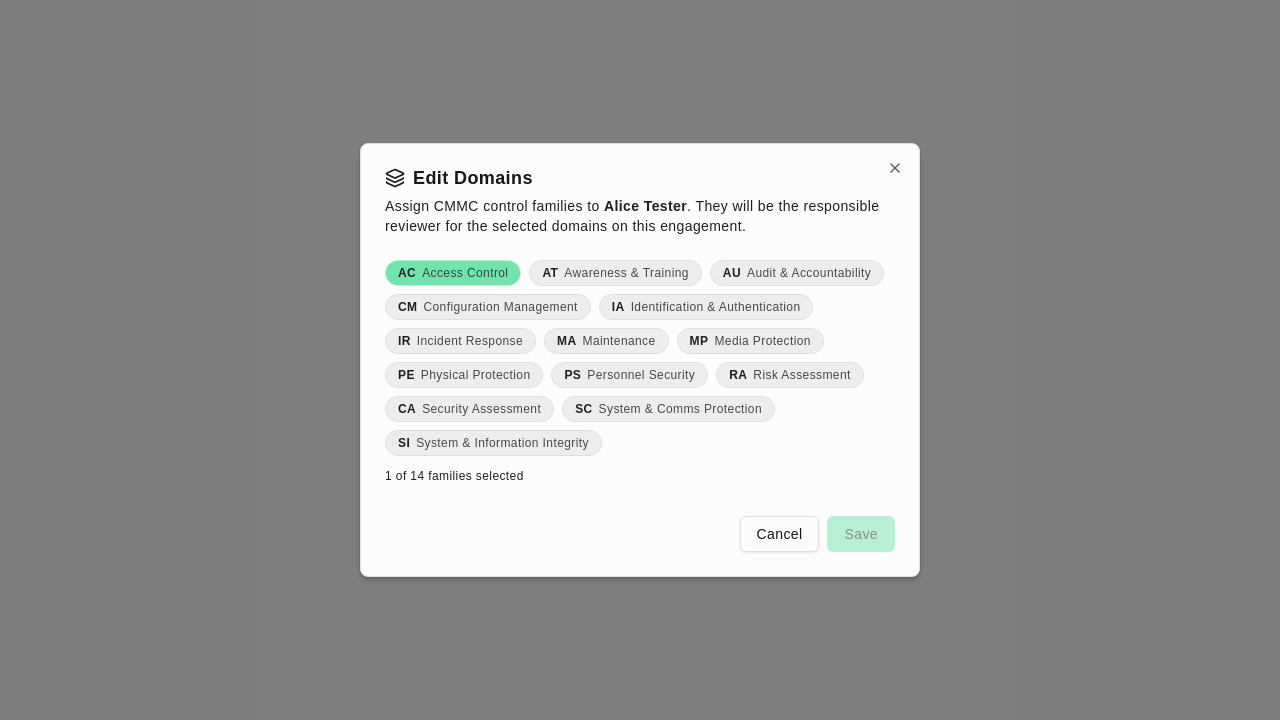
<DomainAssignmentDialog> › enables Save once a chip has been toggled
Check: the button "Save" is disabled, box [828,516,895,552]
Click the button "CM Configuration Management": [488, 307] box [385,294,591,320]
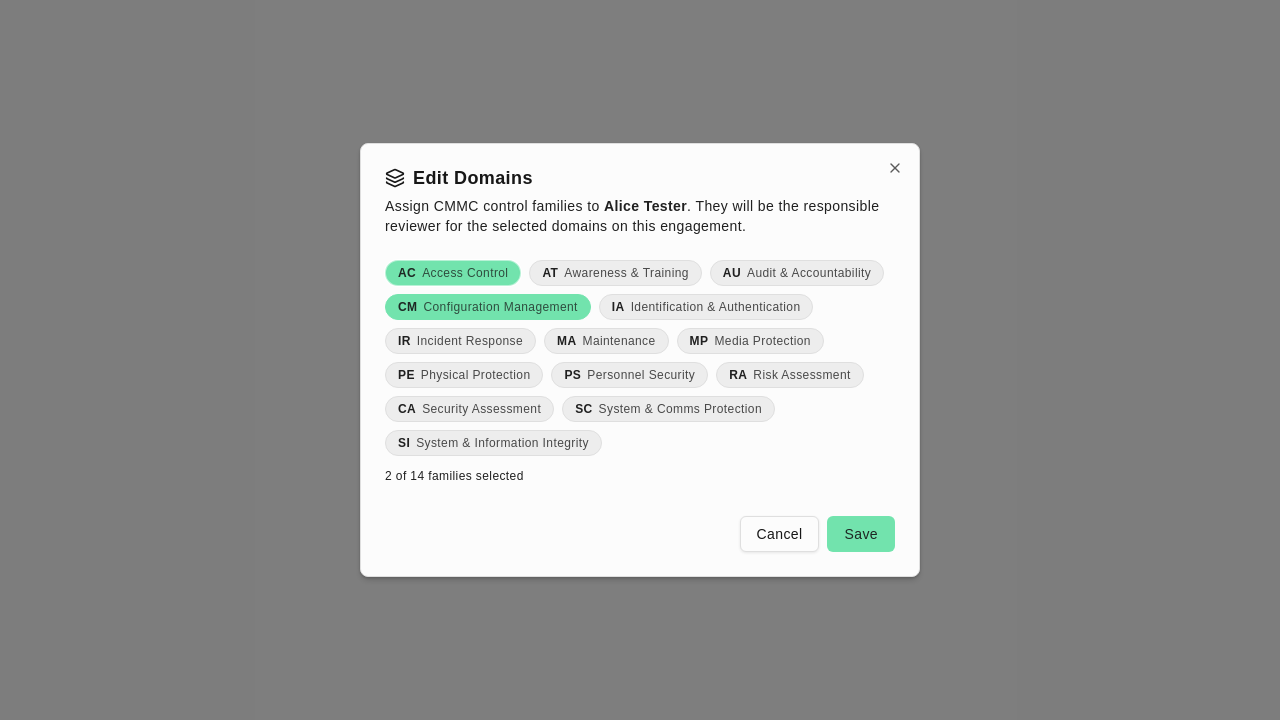
Check: the button "Save" is enabled, box [828,516,895,552]
